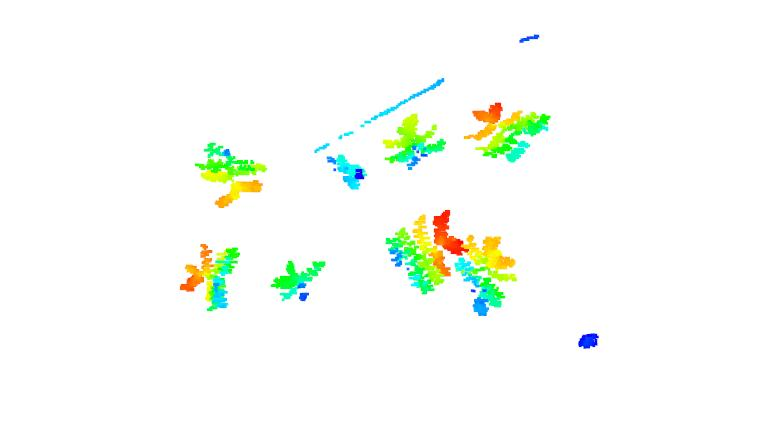chickpea: (383, 205, 466, 298), (192, 138, 270, 211), (464, 100, 554, 163), (455, 231, 518, 318), (177, 240, 244, 312), (385, 114, 450, 172), (265, 254, 325, 305), (325, 151, 369, 195)
